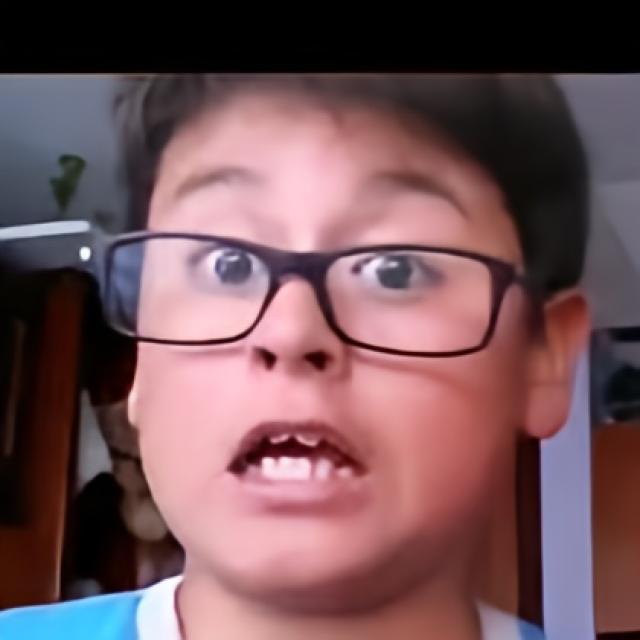fear: (130, 96, 524, 613)
